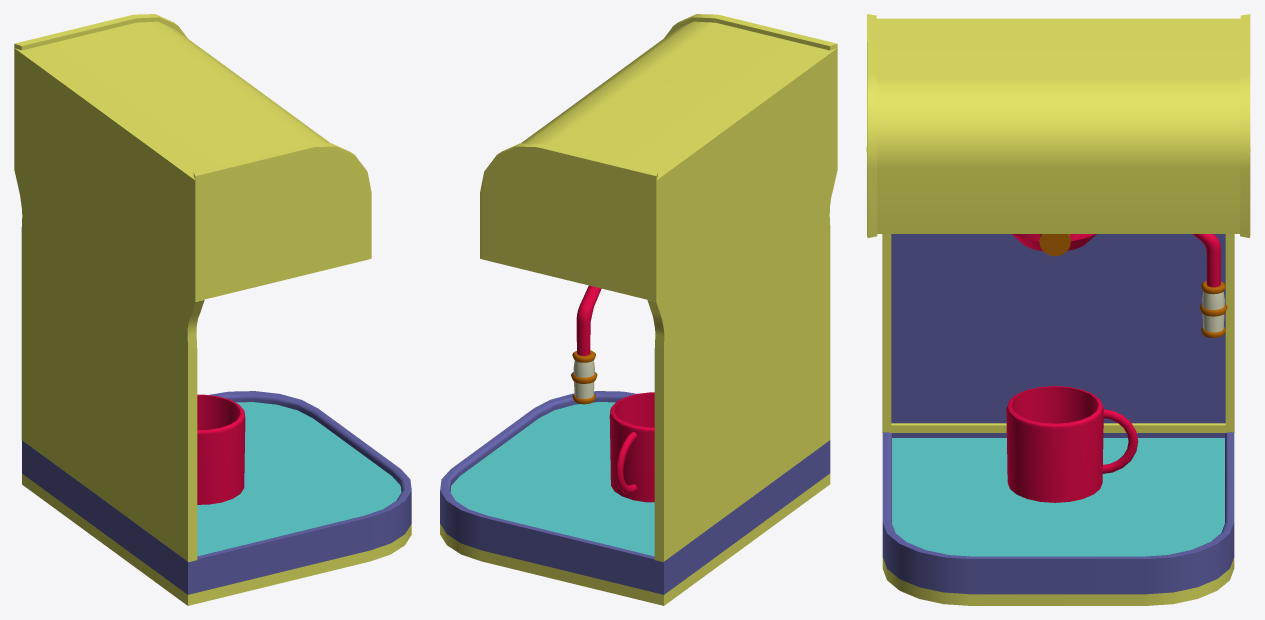
The model's file is coffee_machine.fbx.
The picture shows the model from 3 angles, left to right: view 1: azimuth 30°, elevation 25°; view 2: azimuth 150°, elevation 25°; view 3: azimuth 270°, elevation 25°; orthographic projection. The views are drawn at different scales.
Parts seen in each view (by area): view 1: pCube26, pCube25, pCube24, pCylinder25; view 2: pCube26, pCube25, pCube24, pCylinder25, pCylinder28, pCylinder29; view 3: pCube26, pCube25, pCube24, pCylinder25, pCylinder28, pCylinder29, pCylinder23, pCylinder26.
Part boxes in pixels (bbox=[...]): pCube26: bbox=[14, 14, 371, 301]; pCube25: bbox=[14, 169, 204, 562]; pCube24: bbox=[22, 391, 411, 605]; pCylinder25: bbox=[197, 394, 245, 504]; pCube26: bbox=[480, 14, 837, 301]; pCube25: bbox=[647, 169, 837, 562]; pCube24: bbox=[440, 391, 830, 605]; pCylinder25: bbox=[609, 392, 654, 502]; pCylinder28: bbox=[576, 285, 601, 355]; pCylinder29: bbox=[573, 360, 594, 398]; pCube26: bbox=[867, 14, 1250, 237]; pCube25: bbox=[866, 147, 1250, 432]; pCube24: bbox=[882, 432, 1234, 605]; pCylinder25: bbox=[1006, 386, 1138, 502]; pCylinder28: bbox=[1192, 234, 1220, 287]; pCylinder29: bbox=[1202, 291, 1224, 332]; pCylinder23: bbox=[1011, 234, 1096, 251]; pCylinder26: bbox=[1039, 234, 1070, 256].
Size of the model in its own units: 4.92 by 8.03 by 6.07.
